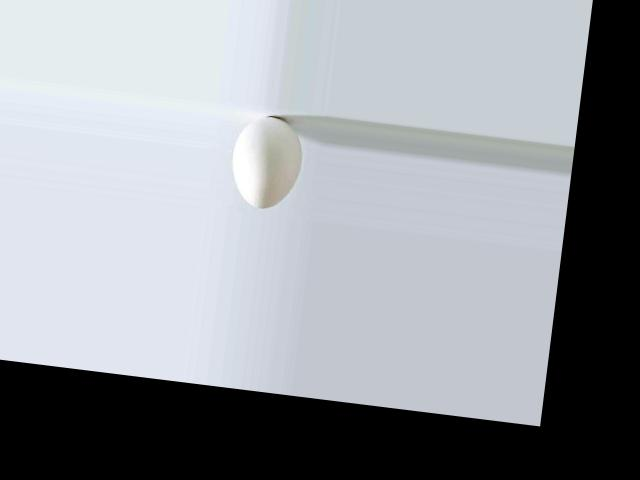egg: (226, 112, 305, 212)
